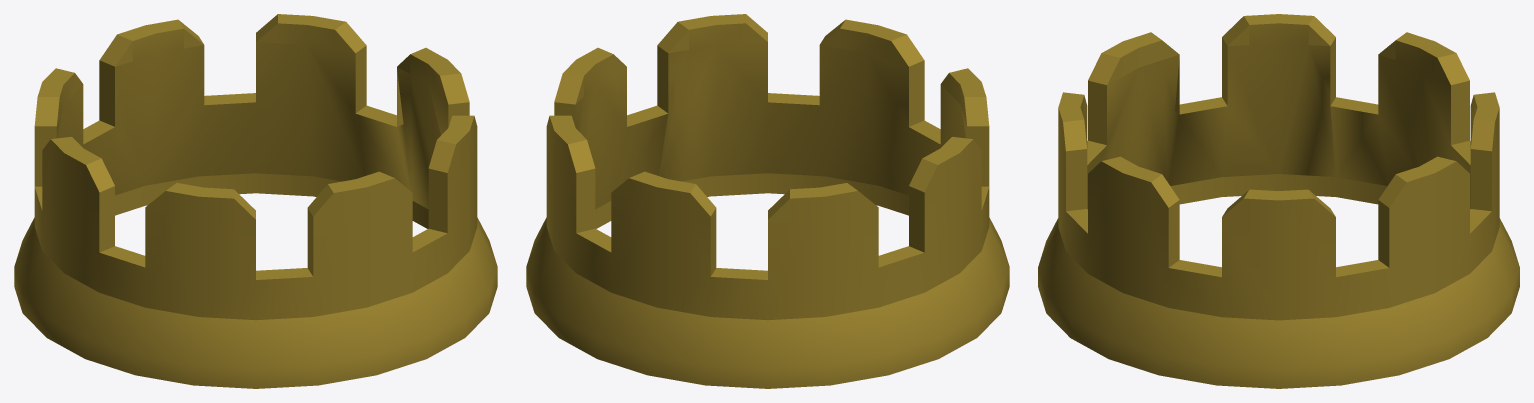
File: crown.obj
3 renders of one model, left to right at view 1: azimuth 30°, elevation 25°; view 2: azimuth 150°, elevation 25°; view 3: azimuth 270°, elevation 25°, orthographic.
Size of the model in its own units: 6.66 by 2.74 by 6.66.
